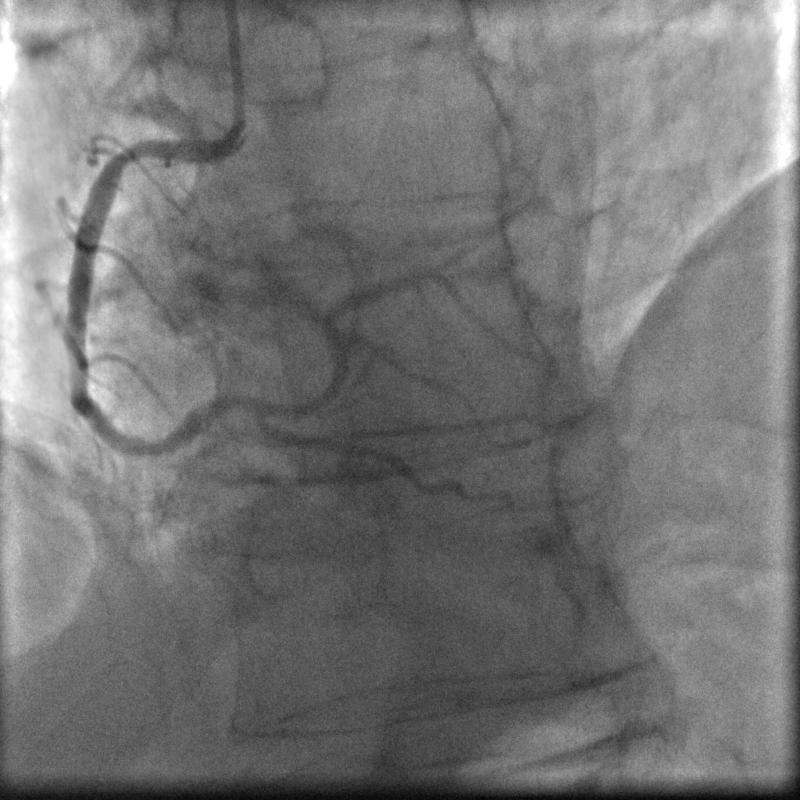Stenosis: (108, 136, 150, 176)
